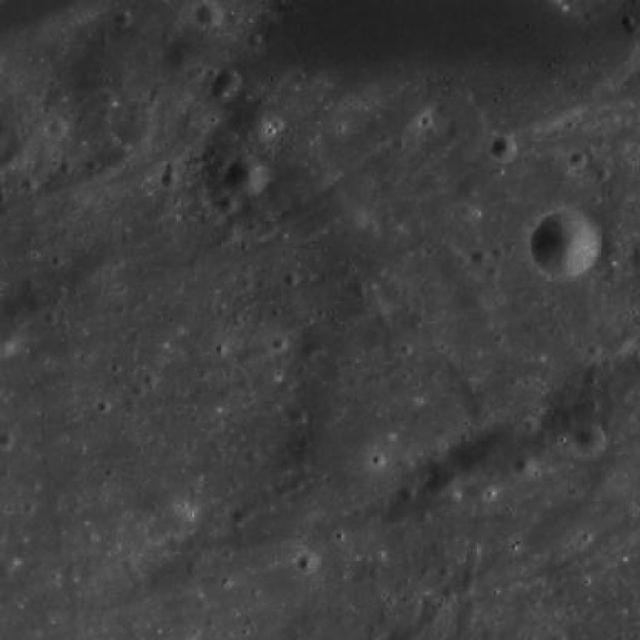crater: (0, 92, 57, 175), (530, 210, 599, 278), (281, 198, 327, 242), (226, 156, 266, 196), (422, 461, 458, 497), (209, 69, 242, 102), (576, 424, 606, 454), (489, 136, 517, 162), (195, 0, 223, 26), (513, 455, 535, 477), (217, 194, 237, 214), (297, 552, 317, 572), (232, 271, 252, 291), (48, 116, 67, 136), (568, 153, 587, 170), (398, 484, 416, 501), (224, 9, 242, 26), (230, 509, 247, 526), (160, 172, 178, 188), (22, 176, 40, 192), (115, 12, 131, 28), (272, 334, 288, 350), (77, 351, 94, 366), (0, 432, 14, 450), (289, 408, 305, 423), (242, 447, 258, 462), (0, 561, 12, 580), (0, 0, 2, 2)
